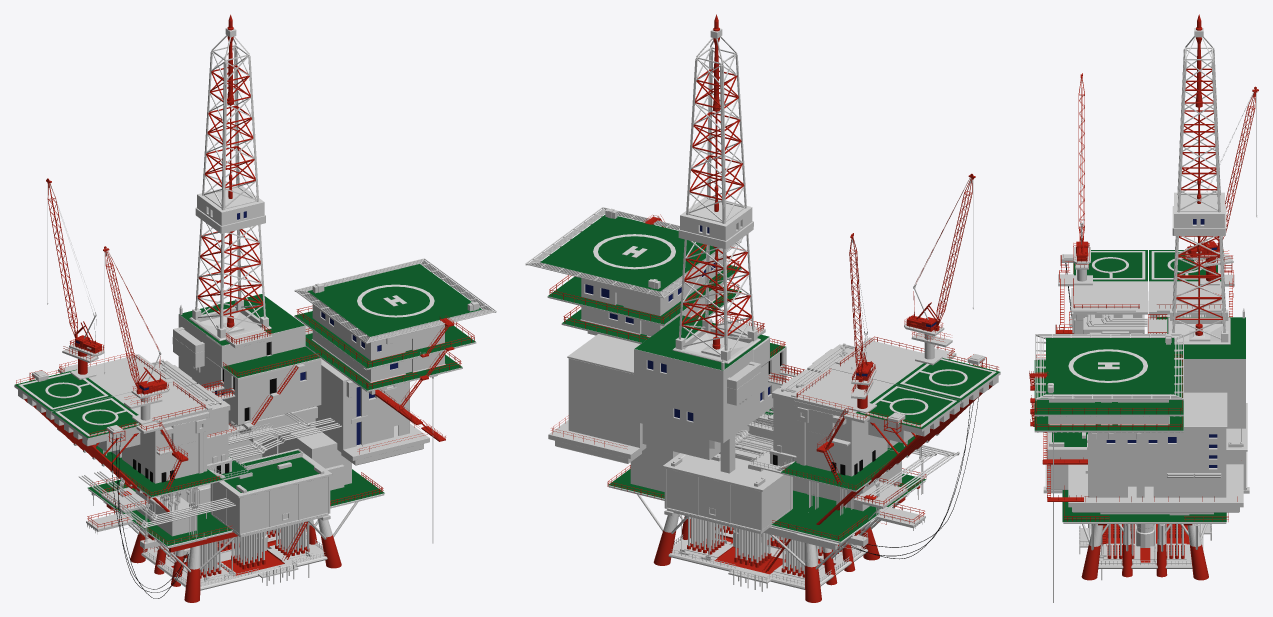
Rendered from 钻井平台3.FBX.
The picture shows the model from 3 angles, left to right: view 1: azimuth 30°, elevation 25°; view 2: azimuth 150°, elevation 25°; view 3: azimuth 270°, elevation 25°; orthographic projection. The views are drawn at different scales.
Visible parts, largest first — view 1: 浅灰, 绿, 橘, 白, 灰; view 2: 浅灰, 绿, 橘, 白, 灰, 玻璃; view 3: 浅灰, 绿, 橘, 白, 玻璃.
Part boxes in pixels (<box>): 浅灰: <box>14,183,481,590</box>; 绿: <box>15,264,481,546</box>; 橘: <box>16,14,474,602</box>; 白: <box>18,27,496,436</box>; 灰: <box>111,342,276,598</box>; 浅灰: <box>540,177,1000,591</box>; 绿: <box>540,215,999,541</box>; 橘: <box>549,14,998,602</box>; 白: <box>525,28,996,427</box>; 灰: <box>768,352,982,559</box>; 玻璃: <box>585,225,936,421</box>; 浅灰: <box>1034,79,1257,602</box>; 绿: <box>1034,250,1245,521</box>; 橘: <box>1029,14,1258,580</box>; 白: <box>1035,28,1228,400</box>; 玻璃: <box>1106,219,1217,467</box>.
Size of the model in its own units: 74.94 by 98.41 by 37.21.
